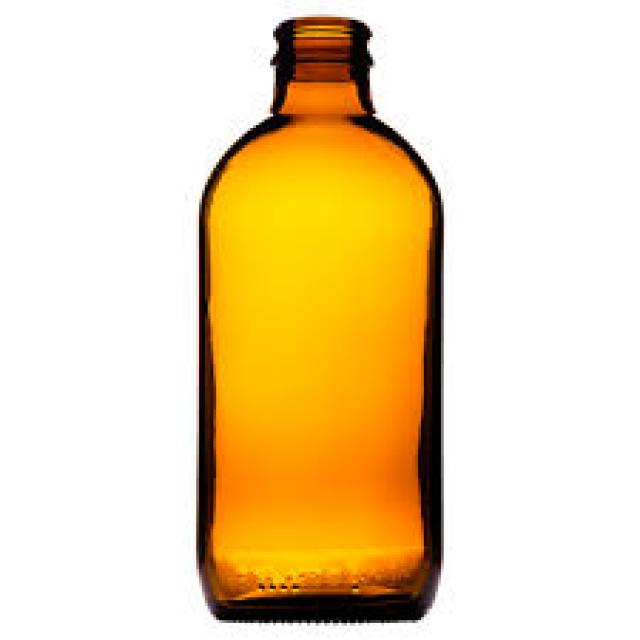Anorganik: (193, 11, 444, 623)
